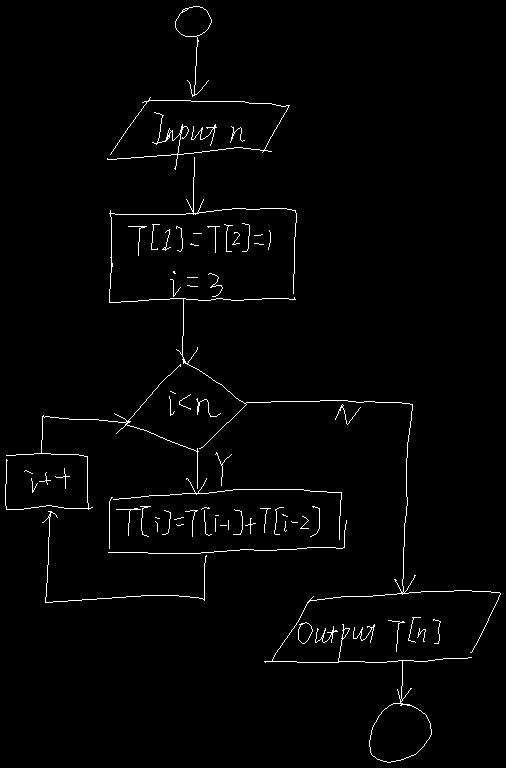arrow: (246, 400, 415, 594), (42, 511, 206, 602), (41, 413, 130, 453), (176, 299, 197, 363), (187, 37, 208, 96), (186, 157, 203, 214), (186, 448, 206, 494), (397, 660, 411, 702)
connection: (369, 703, 431, 762), (175, 6, 211, 36)
data: (264, 590, 500, 662), (107, 97, 289, 159)
decision: (125, 359, 246, 451)
process: (109, 208, 296, 302), (108, 489, 346, 553), (5, 453, 92, 509)
text: (128, 223, 270, 296), (298, 617, 440, 661), (116, 506, 319, 536), (152, 112, 244, 169), (169, 391, 220, 416), (24, 468, 69, 492), (215, 452, 231, 485), (335, 404, 360, 424)
